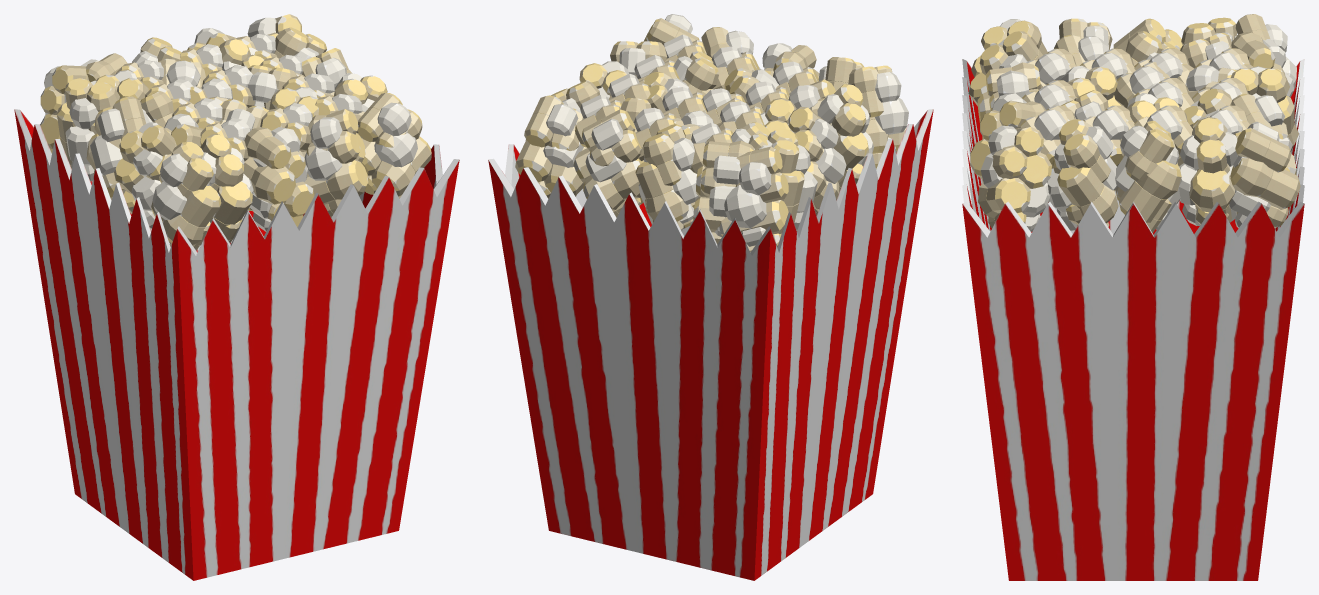
Rendered from popcorn-CskqXeha.glb.
3 renders of one model, left to right at view 1: azimuth 30°, elevation 25°; view 2: azimuth 150°, elevation 25°; view 3: azimuth 270°, elevation 25°, orthographic. The views are drawn at different scales.
Visible parts, largest first — view 1: O_PopcornBox, O_Popcorn59, O_Popcorn72, O_Popcorn86, O_Popcorn77, O_Popcorn37, O_Popcorn60, O_Popcorn58, O_Popcorn55, O_Popcorn52, O_Popcorn40, O_Popcorn41 (+31 smaller); view 2: O_PopcornBox, O_Popcorn43, O_Popcorn84, O_Popcorn48, O_Popcorn76, O_Popcorn63, O_Popcorn42, O_Popcorn85, O_Popcorn45, O_Popcorn52, O_Popcorn54, O_Popcorn55 (+33 smaller); view 3: O_PopcornBox, O_Popcorn86, O_Popcorn85, O_Popcorn83, O_Popcorn82, O_Popcorn38, O_Popcorn47, O_Popcorn46, O_Popcorn37, O_Popcorn81, O_Popcorn48, O_Popcorn60 (+34 smaller).
Boxes of the visible parts, x1,y1,x2,y2 form: O_PopcornBox: [14, 109, 459, 580]; O_Popcorn59: [151, 182, 221, 245]; O_Popcorn72: [243, 157, 314, 218]; O_Popcorn86: [361, 133, 431, 196]; O_Popcorn77: [301, 133, 368, 204]; O_Popcorn37: [358, 93, 422, 147]; O_Popcorn60: [244, 127, 305, 178]; O_Popcorn58: [306, 109, 360, 163]; O_Popcorn55: [159, 142, 213, 198]; O_Popcorn52: [119, 122, 176, 176]; O_Popcorn40: [64, 78, 119, 129]; O_Popcorn41: [94, 96, 146, 148]; O_PopcornBox: [488, 109, 933, 580]; O_Popcorn43: [582, 109, 641, 166]; O_Popcorn84: [573, 148, 643, 210]; O_Popcorn48: [524, 95, 583, 150]; O_Popcorn76: [635, 162, 698, 221]; O_Popcorn63: [719, 184, 788, 236]; O_Popcorn42: [735, 146, 788, 202]; O_Popcorn85: [515, 139, 586, 195]; O_Popcorn45: [643, 124, 694, 185]; O_Popcorn52: [817, 84, 869, 138]; O_Popcorn54: [701, 140, 754, 196]; O_Popcorn55: [848, 65, 901, 117]; O_PopcornBox: [962, 59, 1304, 580]; O_Popcorn86: [978, 152, 1051, 218]; O_Popcorn85: [1229, 158, 1300, 216]; O_Popcorn83: [1047, 156, 1118, 223]; O_Popcorn82: [1115, 155, 1181, 223]; O_Popcorn38: [1054, 119, 1113, 182]; O_Popcorn47: [1180, 117, 1237, 173]; O_Popcorn46: [1120, 120, 1179, 182]; O_Popcorn37: [988, 125, 1043, 178]; O_Popcorn81: [1178, 163, 1235, 221]; O_Popcorn48: [1233, 121, 1291, 172]; O_Popcorn60: [985, 62, 1040, 110].
Size of the model in its own units: 1.36 by 2 by 1.36.
Materials: 1 (1 with a texture image).
